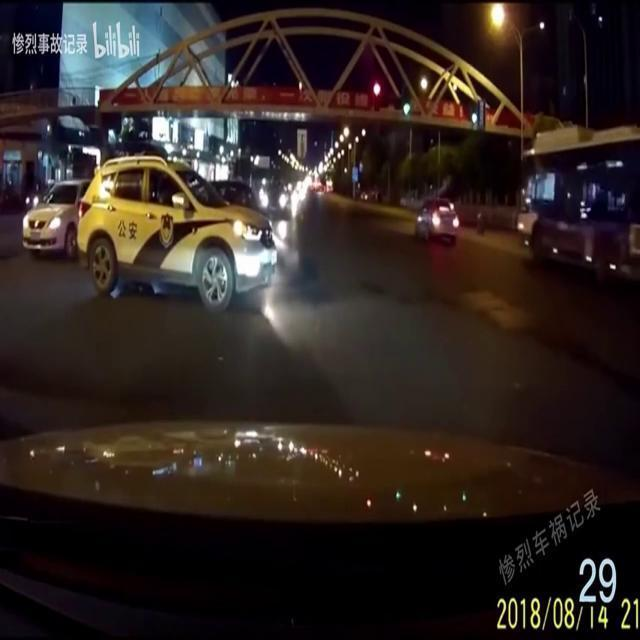non-accident: (22, 156, 290, 310), (412, 126, 640, 288)
